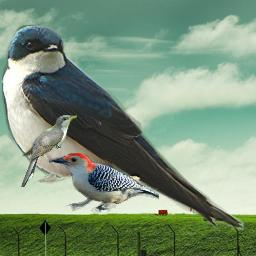Cuckoo: (21, 115, 77, 187)
Swallow: (2, 24, 244, 231)
Woodpecker: (49, 153, 159, 213)
